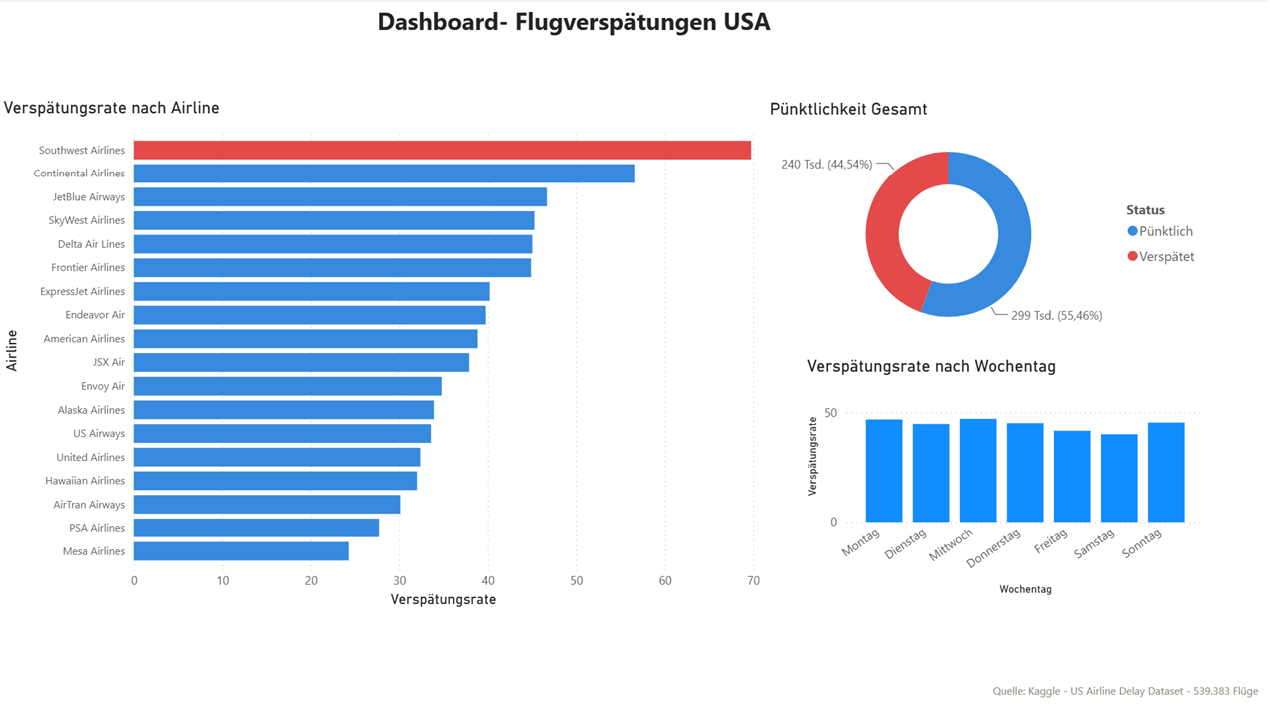

Layout of this report page (visuals, bound fields, positions):
{"tool":"powerbi","page":{"name":"Seite 1","canvas":[1280,720],"ordinal":0},"visuals":[{"type":"clusteredBarChart","fields":{"Y":["Airlines.Verspätungsrate"],"Category":["Airlines.Airline_Text"]},"box":[0,100,771.2,518.8],"z":0},{"type":"clusteredColumnChart","fields":{"Y":["Airlines.Verspätungsrate"],"Category":["Airlines.DayOfWeek_Text"]},"box":[808.5,359.6,409.7,246.3],"z":1000},{"type":"donutChart","title":"Pünktlichkeit Gesamt","fields":{"Y":["Airlines.Anzahl Flüge"],"Category":["Airlines.Delay_Text"]},"box":[771.5,100.3,446.8,252.8],"z":2000},{"type":"textbox","box":[169.3,0,827.3,48.9],"z":3000},{"type":"textbox","box":[996,682.1,283.3,37],"z":4000}]}

Visuals, with their boxes in screenshot pixels (x1, y1, x2, y2), scaled from the page's 1280x720 canvas onto the 1270x711 screenshot:
clusteredBarChart - Airlines.Verspätungsrate x Airlines.Airline_Text: <bbox>0, 99, 765, 611</bbox>
clusteredColumnChart - Airlines.Verspätungsrate x Airlines.DayOfWeek_Text: <bbox>802, 355, 1209, 598</bbox>
"Pünktlichkeit Gesamt" donutChart: <bbox>765, 99, 1209, 349</bbox>
textbox: <bbox>168, 0, 989, 48</bbox>
textbox: <bbox>988, 674, 1269, 710</bbox>
